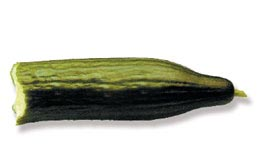cucumber: (9, 54, 249, 129)
